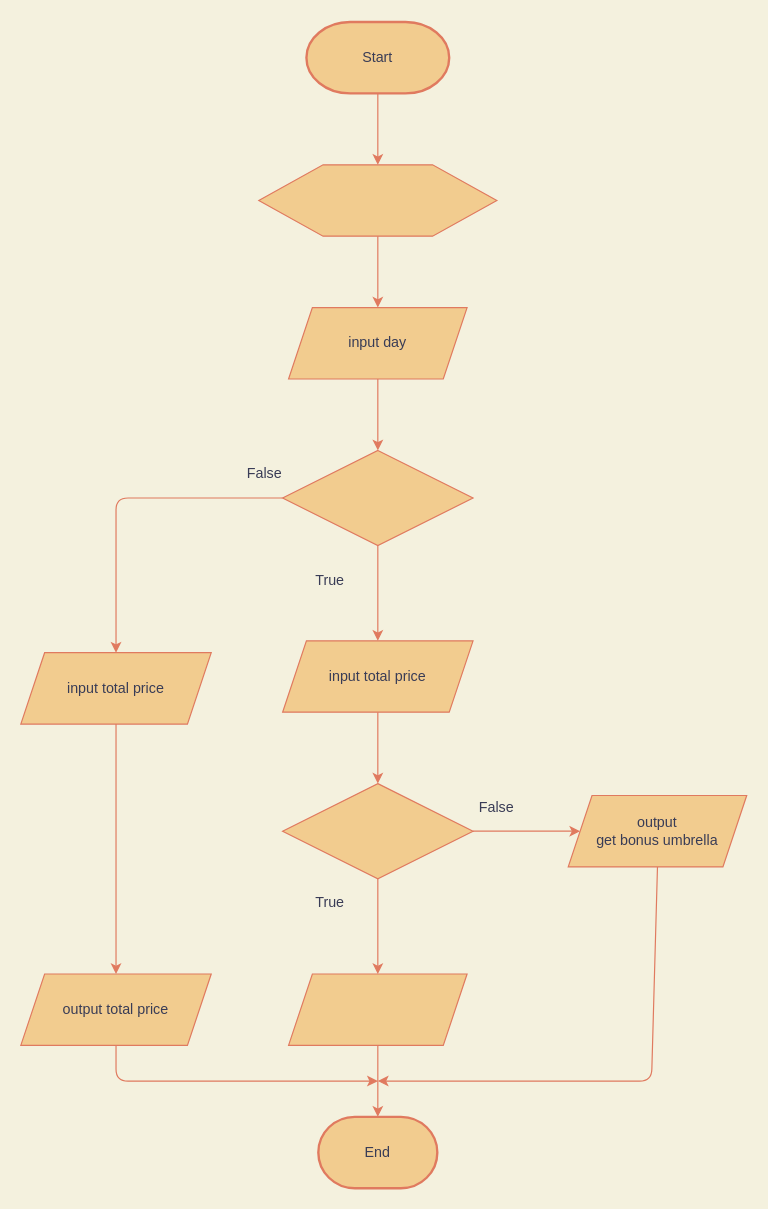
This 768x1209 diagram has some shape labels left out. The centre of each missing label's shape, as x and y in pixels:
day == " friday ": [377,497]
output get bonus iron: [377,1009]
String day, umbrella, iron double total purchase: [377,200]
total price >= 500.000: [377,830]
